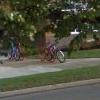Bicycle: (37, 41, 67, 62)
